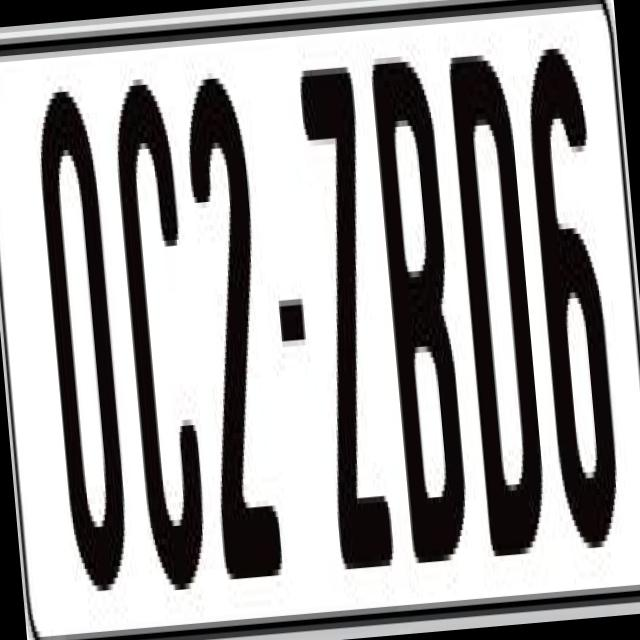0: (32, 90, 132, 604)
2: (176, 70, 278, 574)
6: (522, 35, 626, 573)
B: (368, 42, 474, 580)
C: (110, 81, 222, 614)
D: (447, 42, 550, 550)
Z: (295, 48, 403, 575)
